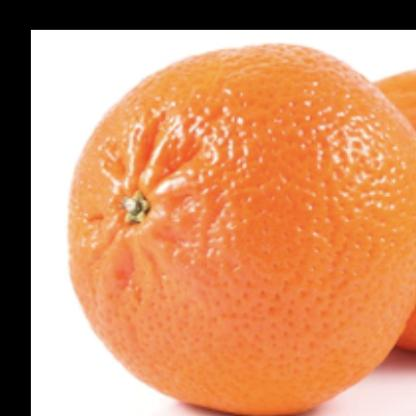fresh: (69, 42, 416, 416)
